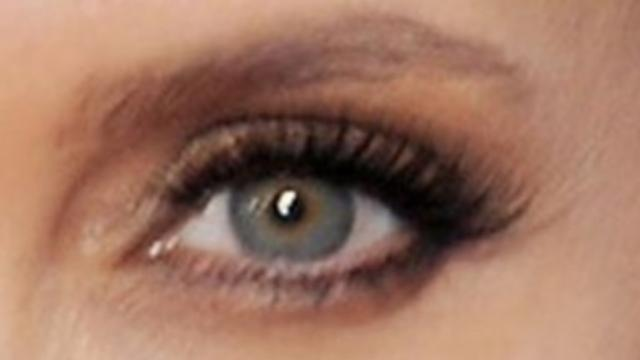eye: (226, 156, 360, 262)
